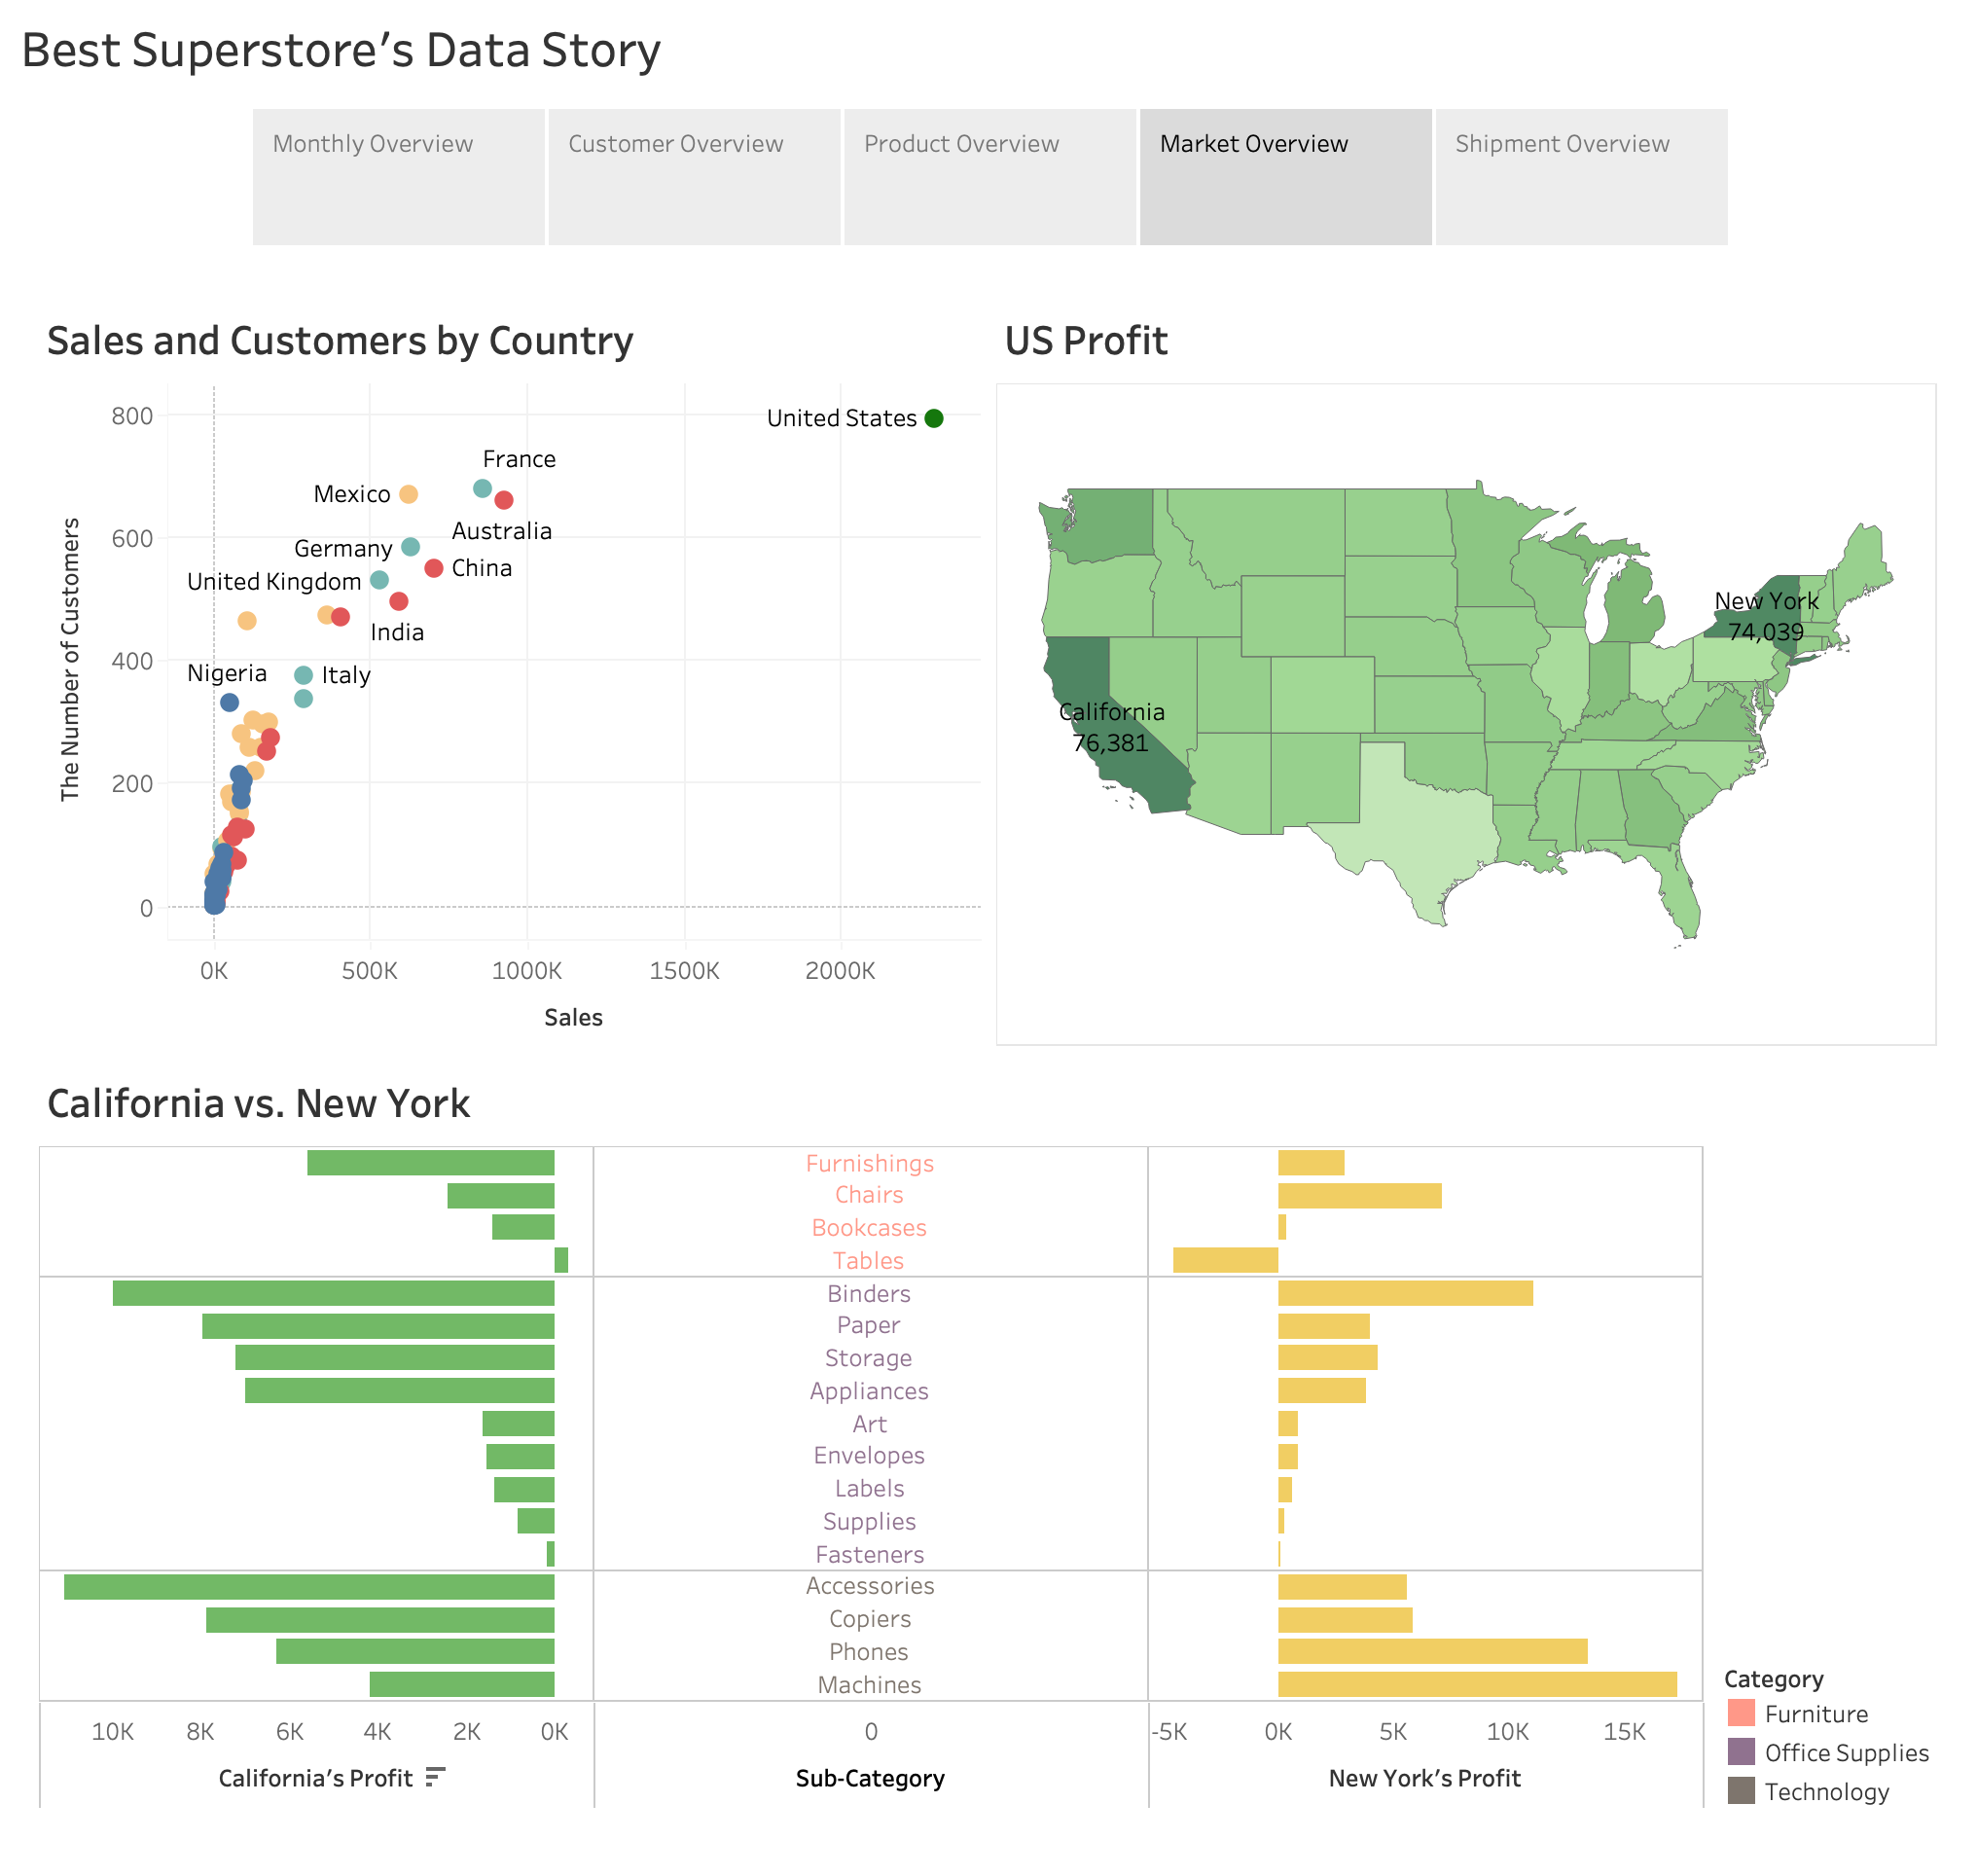

The page's visual inventory and layout, read from the dashboard file:
{"tool":"tableau","page":{"name":"Country Overview","canvas":[1000,800],"ordinal":0},"visuals":[{"type":"worksheet","title":"Sales and Customers by Country","mark":"Automatic","rows":["Customer ID"],"cols":["Sales"],"box":[8,8,492,392]},{"type":"worksheet","title":"US Profit","mark":"Multipolygon","box":[500,8,492,392]},{"type":"worksheet","title":"California vs. New York","mark":"Automatic","rows":["Category","Sub-Category"],"cols":["Calculation_1781173715994935349","Calculation_1781173715998359607","California's Profit (copy)_1781173715996864566"],"box":[8,400,865,392]},{"type":"blank","box":[873,400,119,306]},{"type":"legend","title":"California vs. New York","param":"[federated.1whlfkm0uswxrg16ctf560u8id44].[none:Category:nk]","box":[873,706,119,86]}]}

Visuals, with their boxes on the page's 1000x800 design canvas (x1, y1, x2, y2). These are canvas units, not pixel positions in the 1977x1876 screenshot, which may show the page scaled, cropped or inside an application window:
"Sales and Customers by Country" worksheet: x1=8 y1=8 x2=500 y2=400
"US Profit" worksheet (Multipolygon marks): x1=500 y1=8 x2=992 y2=400
"California vs. New York" worksheet: x1=8 y1=400 x2=873 y2=792
blank: x1=873 y1=400 x2=992 y2=706
"California vs. New York" legend: x1=873 y1=706 x2=992 y2=792
